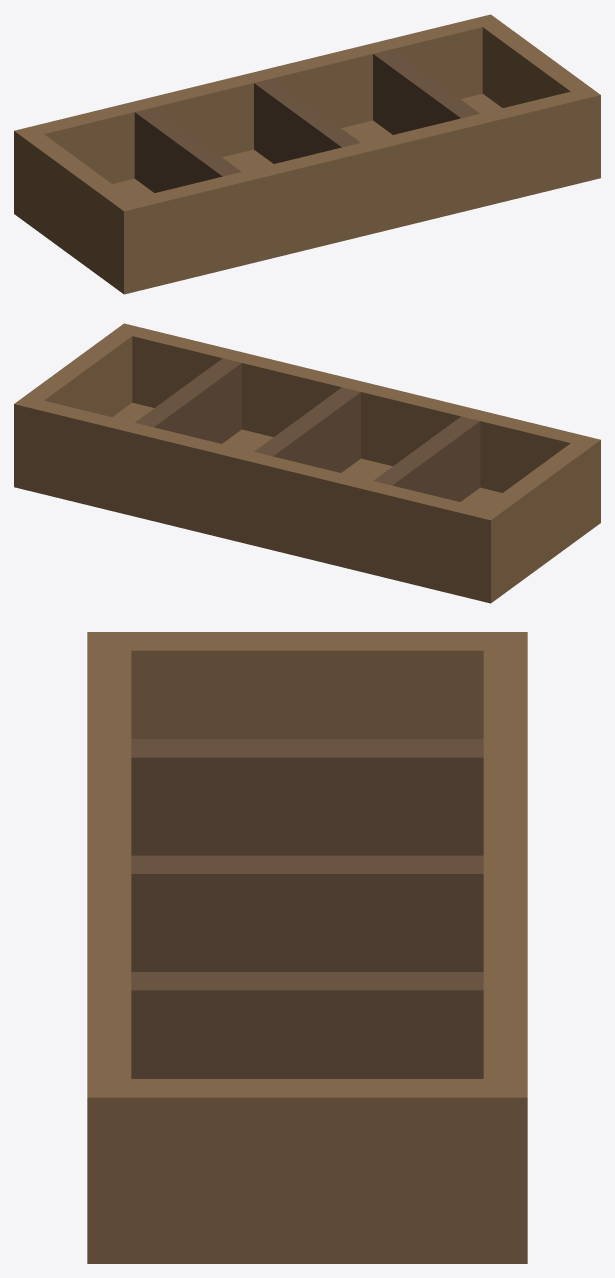
The model's file is POKER-05.glb.
The picture shows the model from 3 angles, top to bottom: view 1: azimuth 30°, elevation 25°; view 2: azimuth 150°, elevation 25°; view 3: azimuth 270°, elevation 25°; orthographic projection. The views are drawn at different scales.
Visible parts, largest first — view 1: chip_tray; view 2: chip_tray; view 3: chip_tray.
Part boxes in pixels (x1=…): chip_tray: x1=14, y1=14, x2=600, y2=294; chip_tray: x1=14, y1=323, x2=600, y2=603; chip_tray: x1=87, y1=632, x2=527, y2=1263.
Size of the model in its own units: 0.3 by 0.05 by 0.12.
